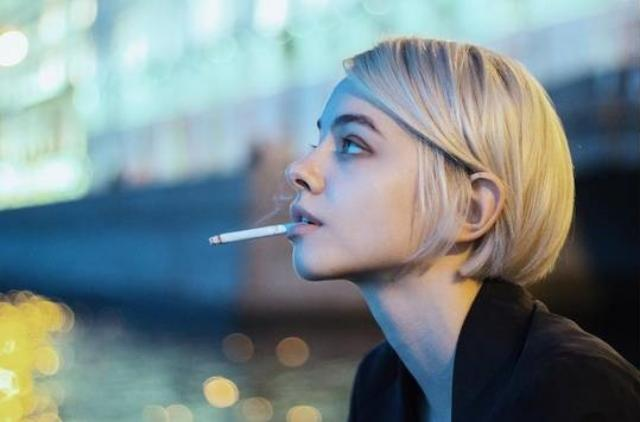SafeDriving: (328, 120, 382, 163)
Smoking: (206, 216, 284, 250)
